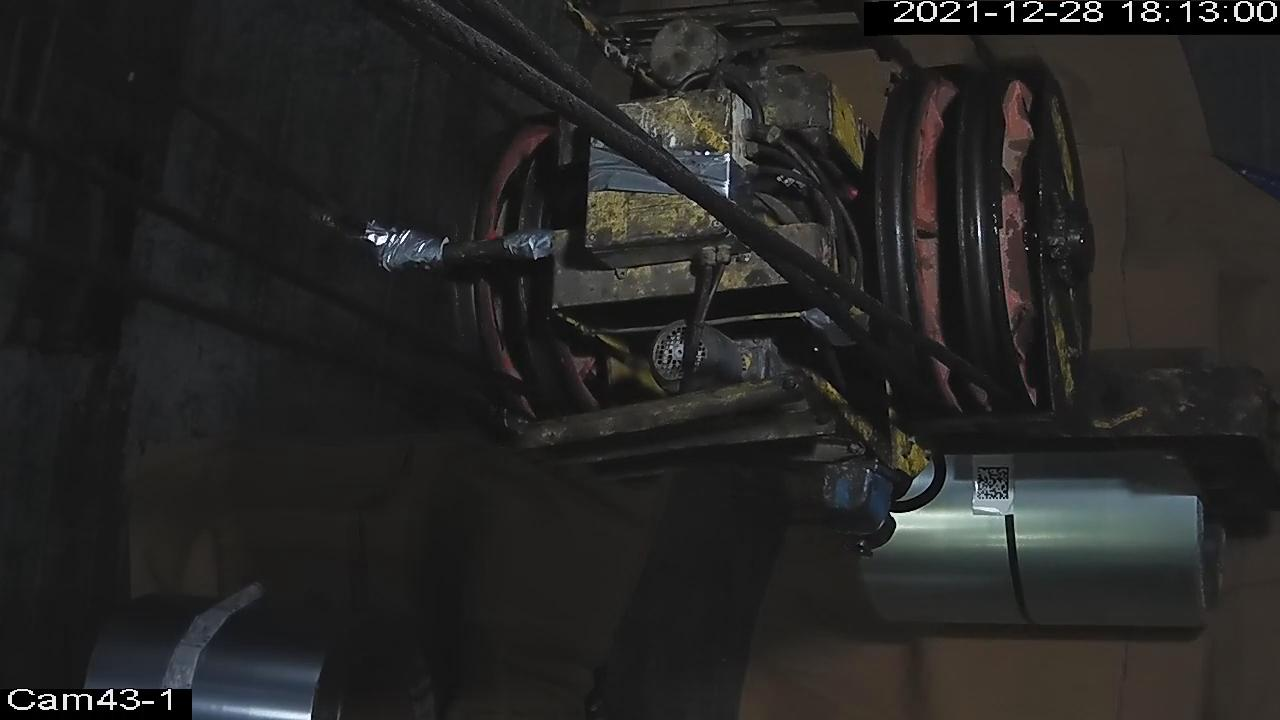data matrix: (976, 466, 1011, 503)
